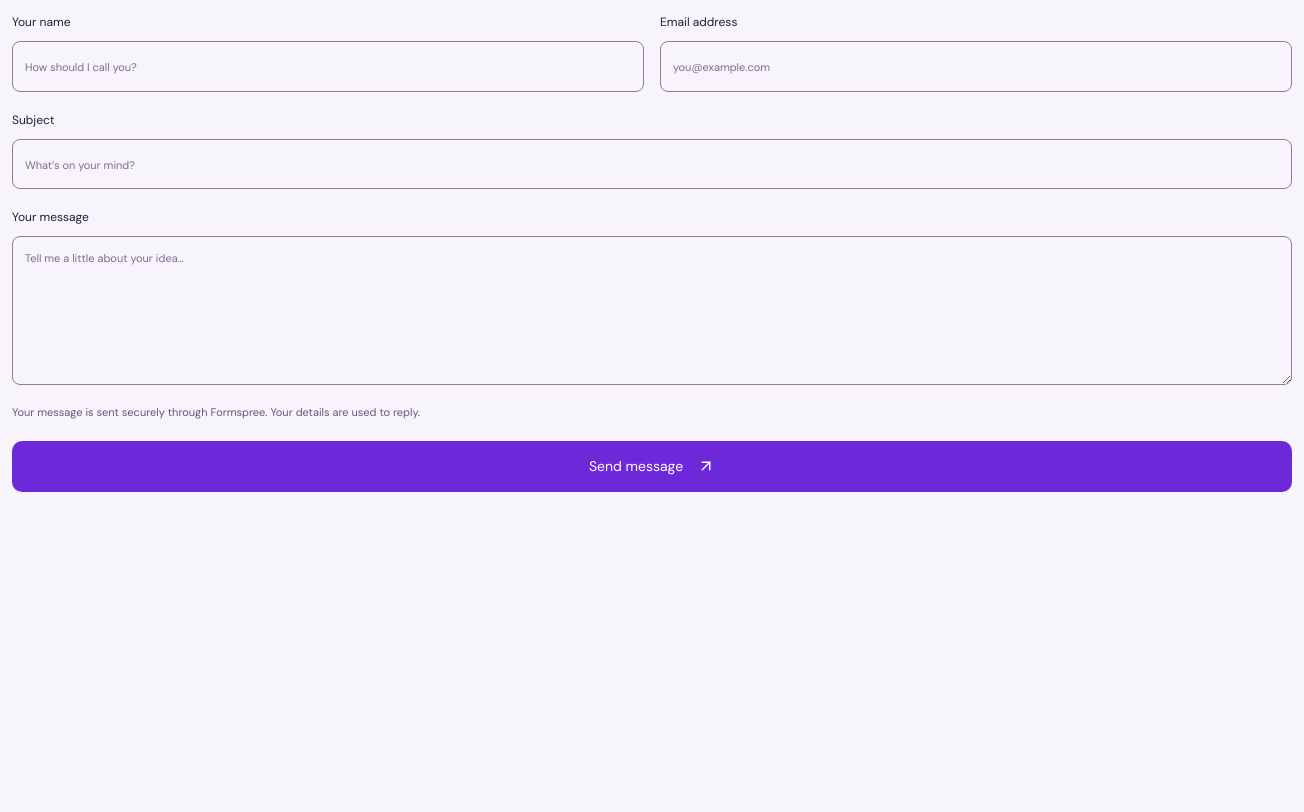
Scenario: Contact form › validates fields and focuses the first error before sending
This screenshot has width=1304, height=812.
Click the button "Send message": (652, 466) [12,441,1292,492]
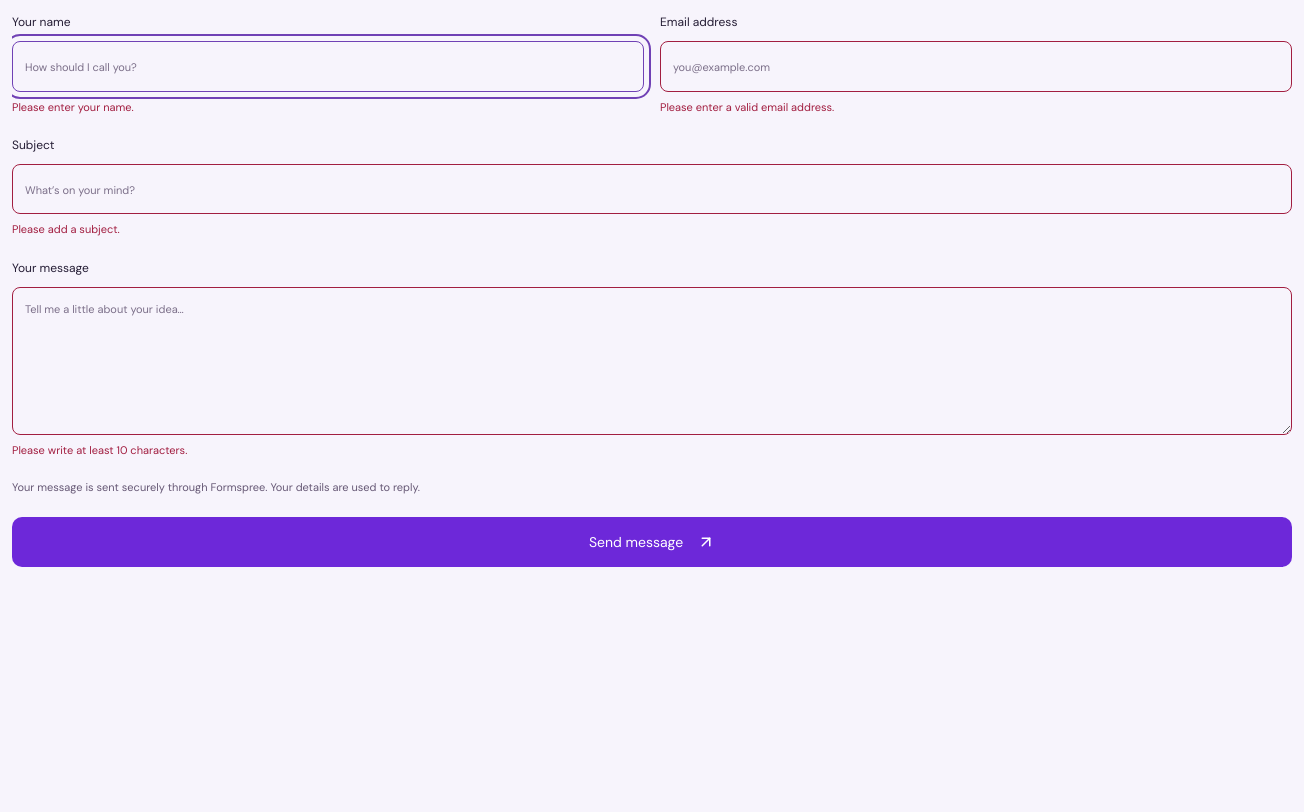
Now the text "Please enter a valid email address." is shown, box [660,100,834,114]
